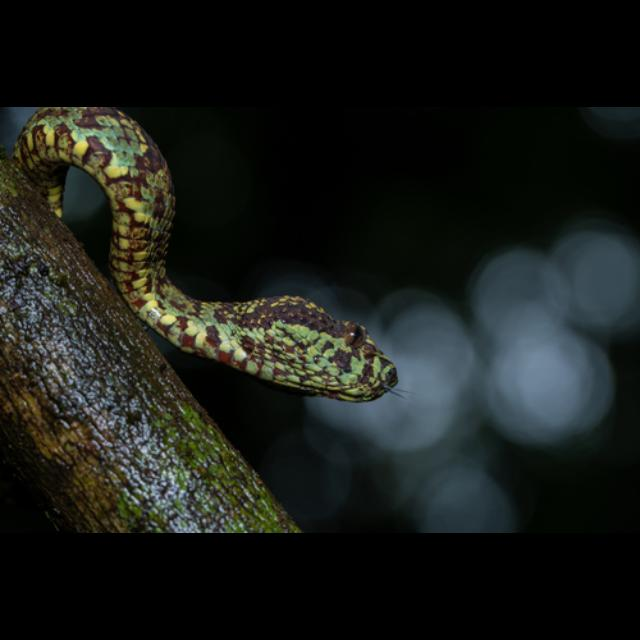snake: (15, 107, 412, 410)
